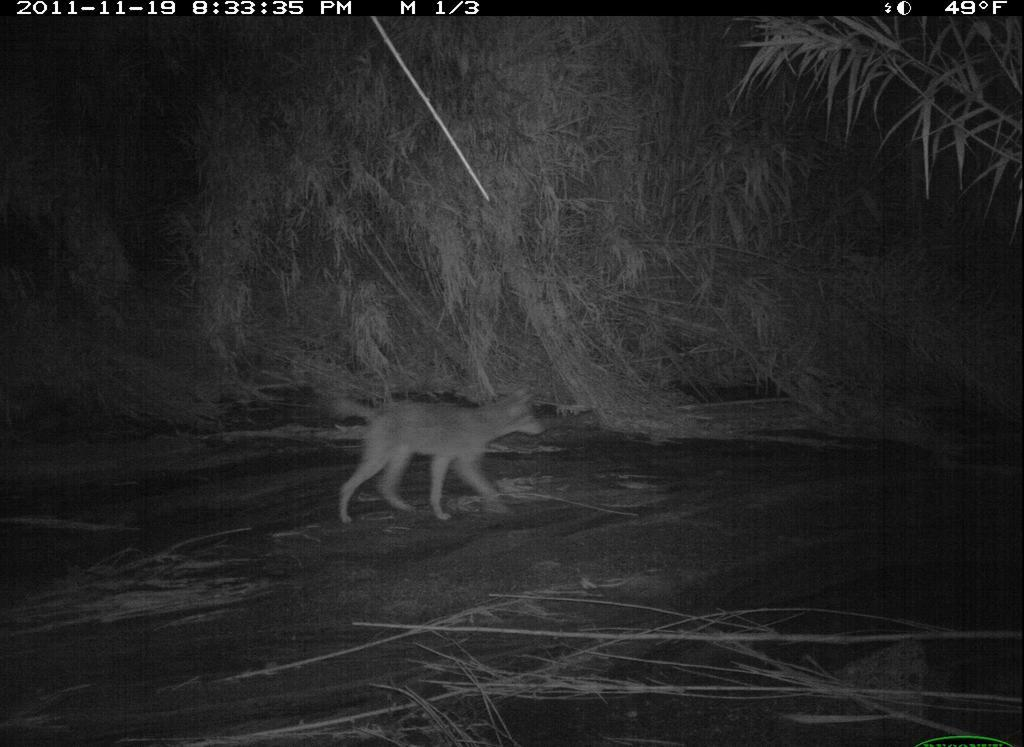coyote: (319, 378, 550, 530)
